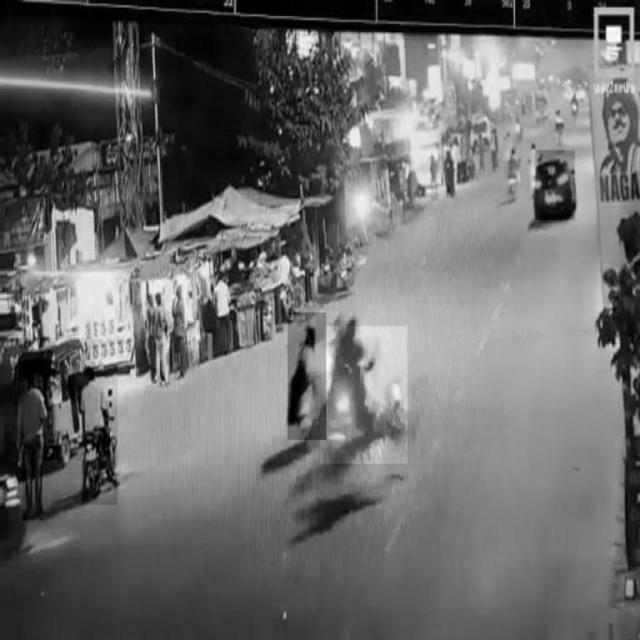accident: (320, 327, 408, 464)
person: (24, 376, 44, 520), (153, 293, 170, 387)
vehicle: (19, 338, 95, 460), (82, 365, 118, 505), (288, 312, 326, 440), (535, 150, 575, 220)
